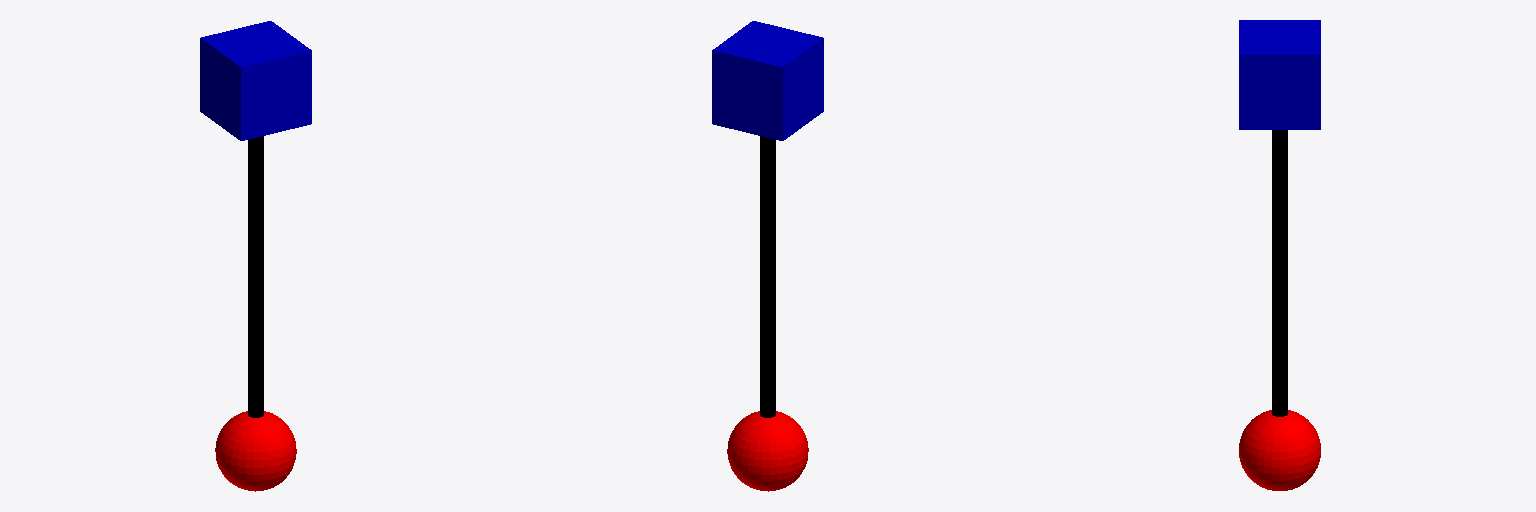
The robot description file, URDF, robot "cart_pole":
<?xml version="1.0" ?>
<robot name="cart_pole">

<material name="blue">
  <color rgba="0 0 0.8 1"/>
</material>
<material name="black">
  <color rgba="0 0 0 1"/>
</material>
<material name="red">
  <color rgba="1.0 0.0 0.0 1"/>
</material>

<link name="world"/>

<link name="base_link_x"/>
<link name="base_link_y"/>

<link name="cart">
  <inertial>
      <origin rpy="0 0 0" xyz="0.0 0.0 0.0"/>
      <mass value="10.0"/>
      <inertia ixx="0.01666667" ixy="0.0" ixz="0.0" iyy="0.01666667" iyz="0.0" izz="0.01666667"/>
  </inertial>
  <visual>
      <origin rpy="0 0 0" xyz="0.0 0.0 0.0"/>
      <geometry name="cart_visual">
        <box size="0.1 0.1 0.1"/>
      </geometry>
      <material name="blue"/>
  </visual>
  <collision>
      <origin rpy="0 0 0" xyz="0.0 0.0 0.0"/>
      <geometry name="cart_collision">
        <box size="0.1 0.1 0.1"/>
      </geometry>
  </collision>
</link>

<link name="pole">
  <inertial>
      <origin rpy="0 0 0" xyz="0.0 0.0 -0.25"/>
      <mass value="1.0"/>
      <inertia ixx="0.0208583332" ixy="0.0" ixz="0.0" iyy="0.0208583332" iyz="0.0" izz="5e-5"/>
  </inertial>
  <visual>
      <origin rpy="0 0 0" xyz="0.0 0.0 -0.25"/>
      <geometry name="cart_visual">
        <cylinder radius="0.01" length="0.5"/>
      </geometry>
      <material name="black"/>
  </visual>
  <collision>
      <origin rpy="0 0 0" xyz="0.0 0.0 -0.25"/>
      <geometry name="cart_collision">
        <cylinder radius="0.01" length="0.5"/>
      </geometry>
  </collision>
</link>


<link name="mass">
  <inertial>
      <origin rpy="0 0 0" xyz="0.0 0.0 0.0"/>
      <mass value="3.0"/>
      <inertia ixx="0.003" ixy="0.0" ixz="0.0" iyy="0.003" iyz="0.0" izz="0.003"/>
  </inertial>
  <visual>
      <origin rpy="0 0 0" xyz="0.0 0.0 0.0"/>
      <geometry name="mass_visual">
        <sphere radius="0.05"/>
      </geometry>
      <material name="red"/>
  </visual>
  <collision>
      <origin rpy="0 0 0" xyz="0.0 0.0 0.0"/>
      <geometry name="mass_collision">
        <sphere radius="0.05"/>
      </geometry>
  </collision>
</link>



<joint name="base_link_joint" type="fixed">
    <parent link="world"/>
    <child link="base_link_x"/>
    <origin rpy="0 0 0" xyz="0 0 0"/>
</joint>

<joint name="cart_joint_x" type="prismatic">
    <axis xyz="1 0 0"/>
    <parent link="base_link_x"/>
    <child link="base_link_y"/>
    <origin rpy="0 0 0" xyz="0 0 0."/>
    <limit effort="1000" lower="-10." upper="10." velocity="100"/>
</joint>

<joint name="cart_joint_y" type="prismatic">
    <axis xyz="0 1 0"/>
    <parent link="base_link_y"/>
    <child link="cart"/>
    <origin rpy="0 0 0" xyz="0 0 0."/>
    <limit effort="1000" lower="-10." upper="10." velocity="100"/>
</joint>

<joint name="pole_joint" type="revolute">
    <axis xyz="0 1 0"/>
    <parent link="cart"/>
    <child link="pole"/>
    <origin rpy="0 0 0" xyz="0 0 0"/>
    <limit effort="0" lower="-6.283" upper="6.283" velocity="100"/>
</joint>

<joint name="mass_joint" type="fixed">
    <parent link="pole"/>
    <child link="mass"/>
    <origin rpy="0 0 0" xyz="0 0 -0.5"/>
</joint>


</robot>

--- What the picture shows (computed from the rendered views, not written in the file) ---
3 views of the same robot in one strip: view 1: azimuth 30°, elevation 25°; view 2: azimuth 150°, elevation 25°; view 3: azimuth 270°, elevation 25° (orthographic).
Robot: cart_pole — 6 links, 5 joints (1 revolute, 2 prismatic, 2 fixed); root link world; default pose: all joints at 0.
Visible links, largest first — view 1: cart, mass, pole; view 2: cart, mass, pole; view 3: cart, mass, pole.
Link boxes in pixels (box(x1,y1,x2,y2)): cart: box(200, 21, 311, 140); mass: box(215, 411, 296, 491); pole: box(248, 136, 263, 417); cart: box(712, 21, 823, 140); mass: box(727, 411, 808, 491); pole: box(760, 136, 775, 417); cart: box(1239, 20, 1320, 129); mass: box(1239, 410, 1320, 490); pole: box(1272, 130, 1287, 416).
Size in the robot's own frame: 0.1 by 0.1 by 0.6 metres.
Geometry: primitives only (box / cylinder / sphere), no mesh files.